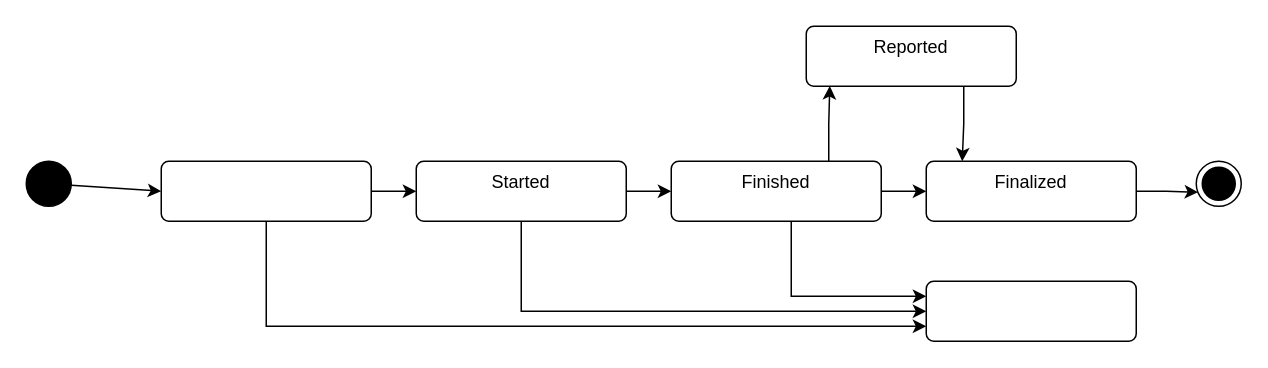
This 1268x368 diagram has some shape labels left out. The centre of each missing label's shape, as x and y in pixels:
"Canceled" belongs at (1030,310).
"Created" belongs at (265,190).
